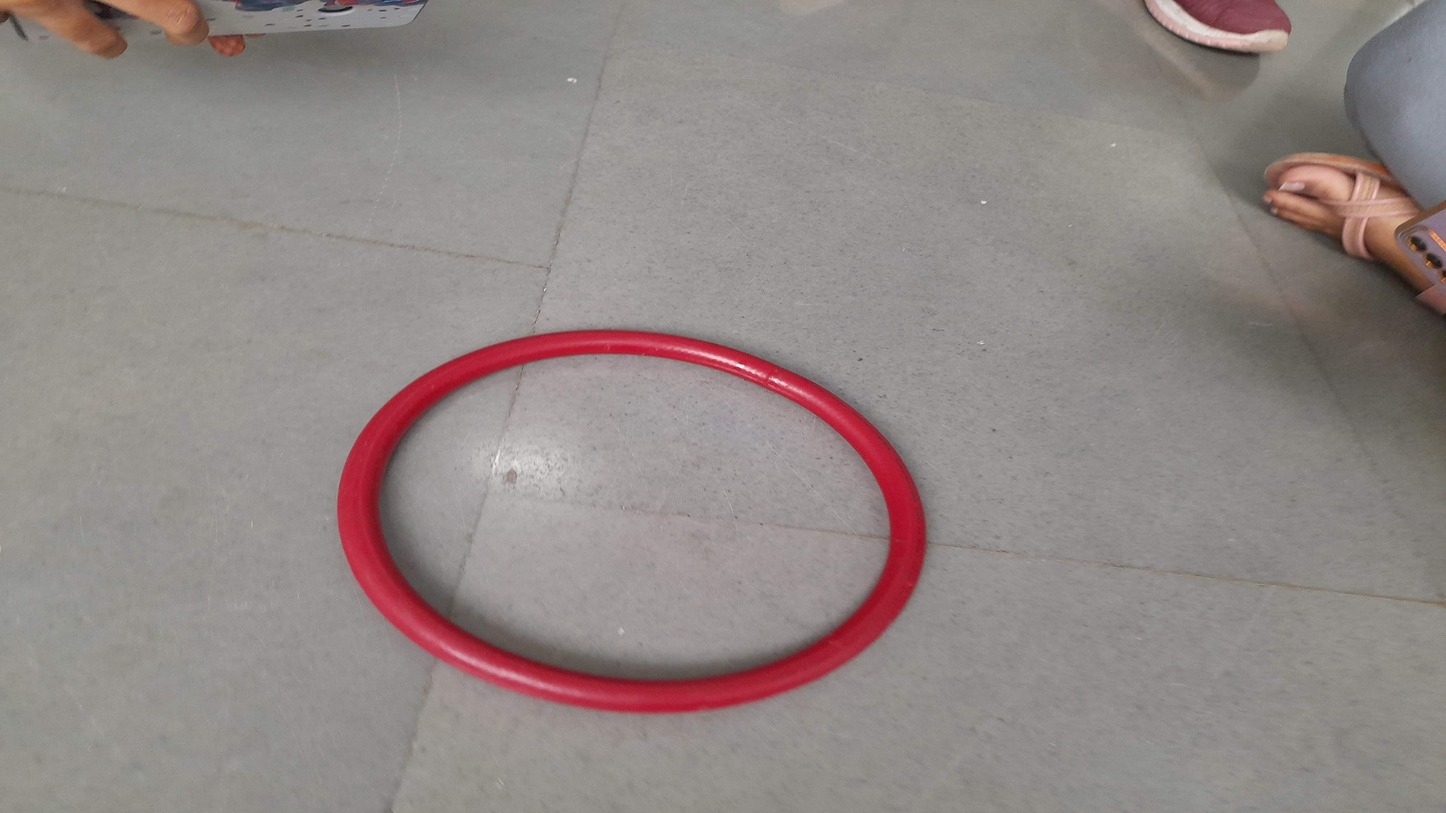Red ring: (337, 331, 929, 711)
